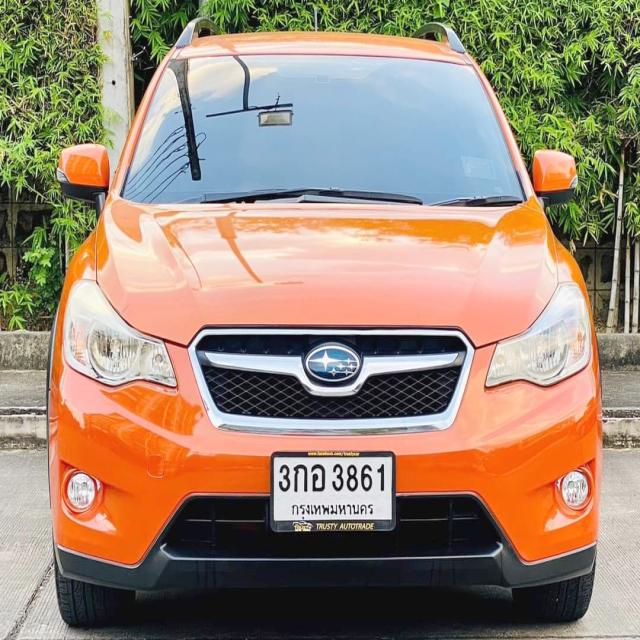license_plate: (268, 446, 398, 534)
